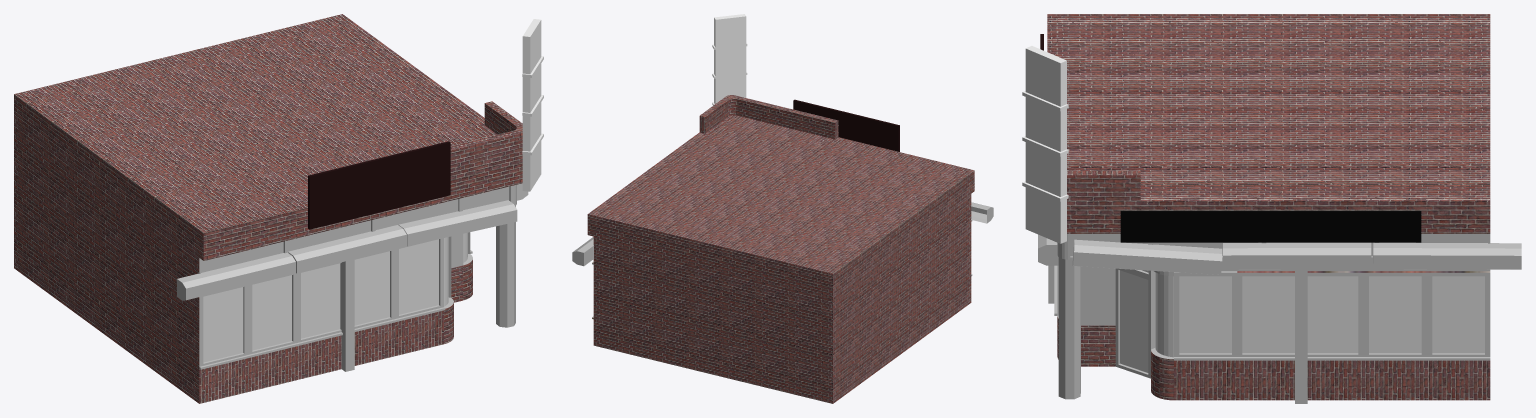
The model's file is cornerShop.fbx.
3 renders of one model, left to right at view 1: azimuth 30°, elevation 25°; view 2: azimuth 150°, elevation 25°; view 3: azimuth 270°, elevation 25°, orthographic. The views are drawn at different scales.
Visible parts, largest first — view 1: Cube, Cube.001, Cube.003, Cube.005, Cube.002; view 2: Cube, Cube.005, Cube.003, Cube.001; view 3: Cube, Cube.001, Cube.004, Cube.005, Cube.002.
Part boxes in pixels (x1,y1,x2,y2): Cube: [14, 14, 522, 403]; Cube.001: [177, 183, 528, 300]; Cube.003: [308, 141, 450, 229]; Cube.005: [522, 19, 543, 191]; Cube.002: [340, 259, 354, 371]; Cube: [587, 95, 974, 403]; Cube.005: [712, 14, 747, 105]; Cube.003: [793, 99, 899, 151]; Cube.001: [572, 202, 993, 266]; Cube: [1047, 14, 1490, 400]; Cube.001: [1038, 234, 1521, 274]; Cube.004: [1120, 210, 1421, 242]; Cube.005: [1022, 46, 1068, 243]; Cube.002: [1048, 265, 1307, 403].
Size of the model in its own units: 833 by 649 by 839.
